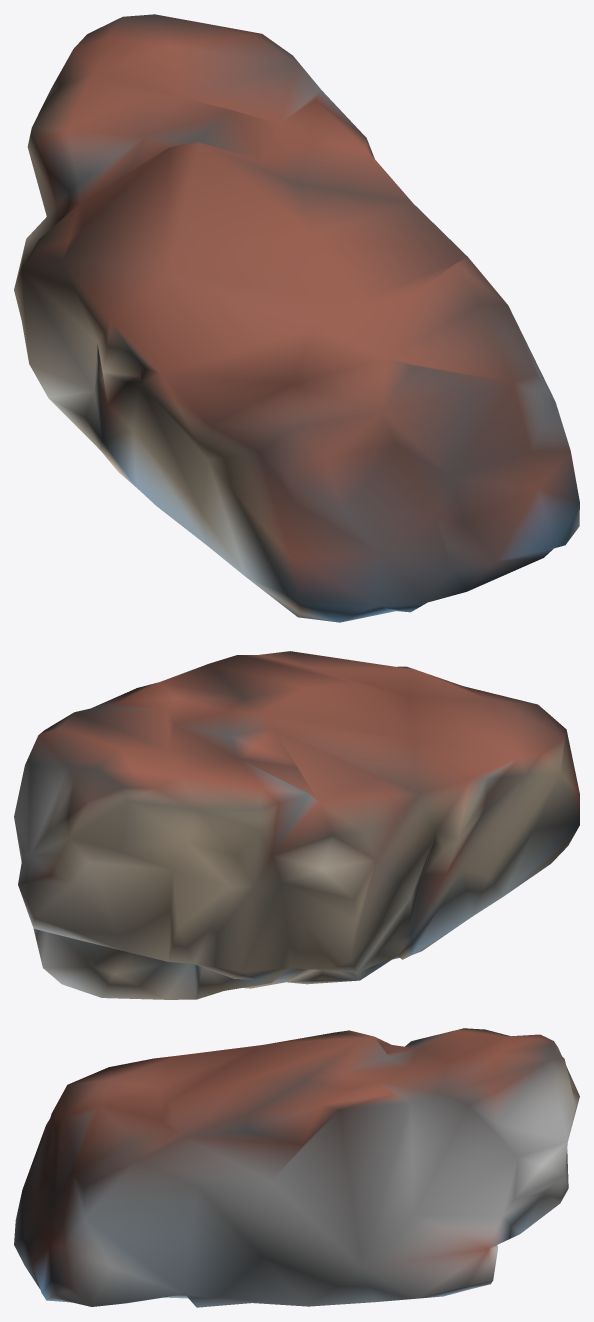
The model's file is vlore_rock_07.glb.
3 renders of one model, top to bottom at view 1: azimuth 30°, elevation 25°; view 2: azimuth 150°, elevation 25°; view 3: azimuth 270°, elevation 25°, orthographic. The views are drawn at different scales.
Visible parts, largest first — view 1: rock_07; view 2: rock_07; view 3: rock_07.
Boxes of the visible parts, x1=… form: rock_07: x1=14, y1=14, x2=579, y2=622; rock_07: x1=14, y1=651, x2=579, y2=999; rock_07: x1=14, y1=1028, x2=579, y2=1307.
Size of the model in its own units: 0.1678 by 0.1434 by 0.3198.
